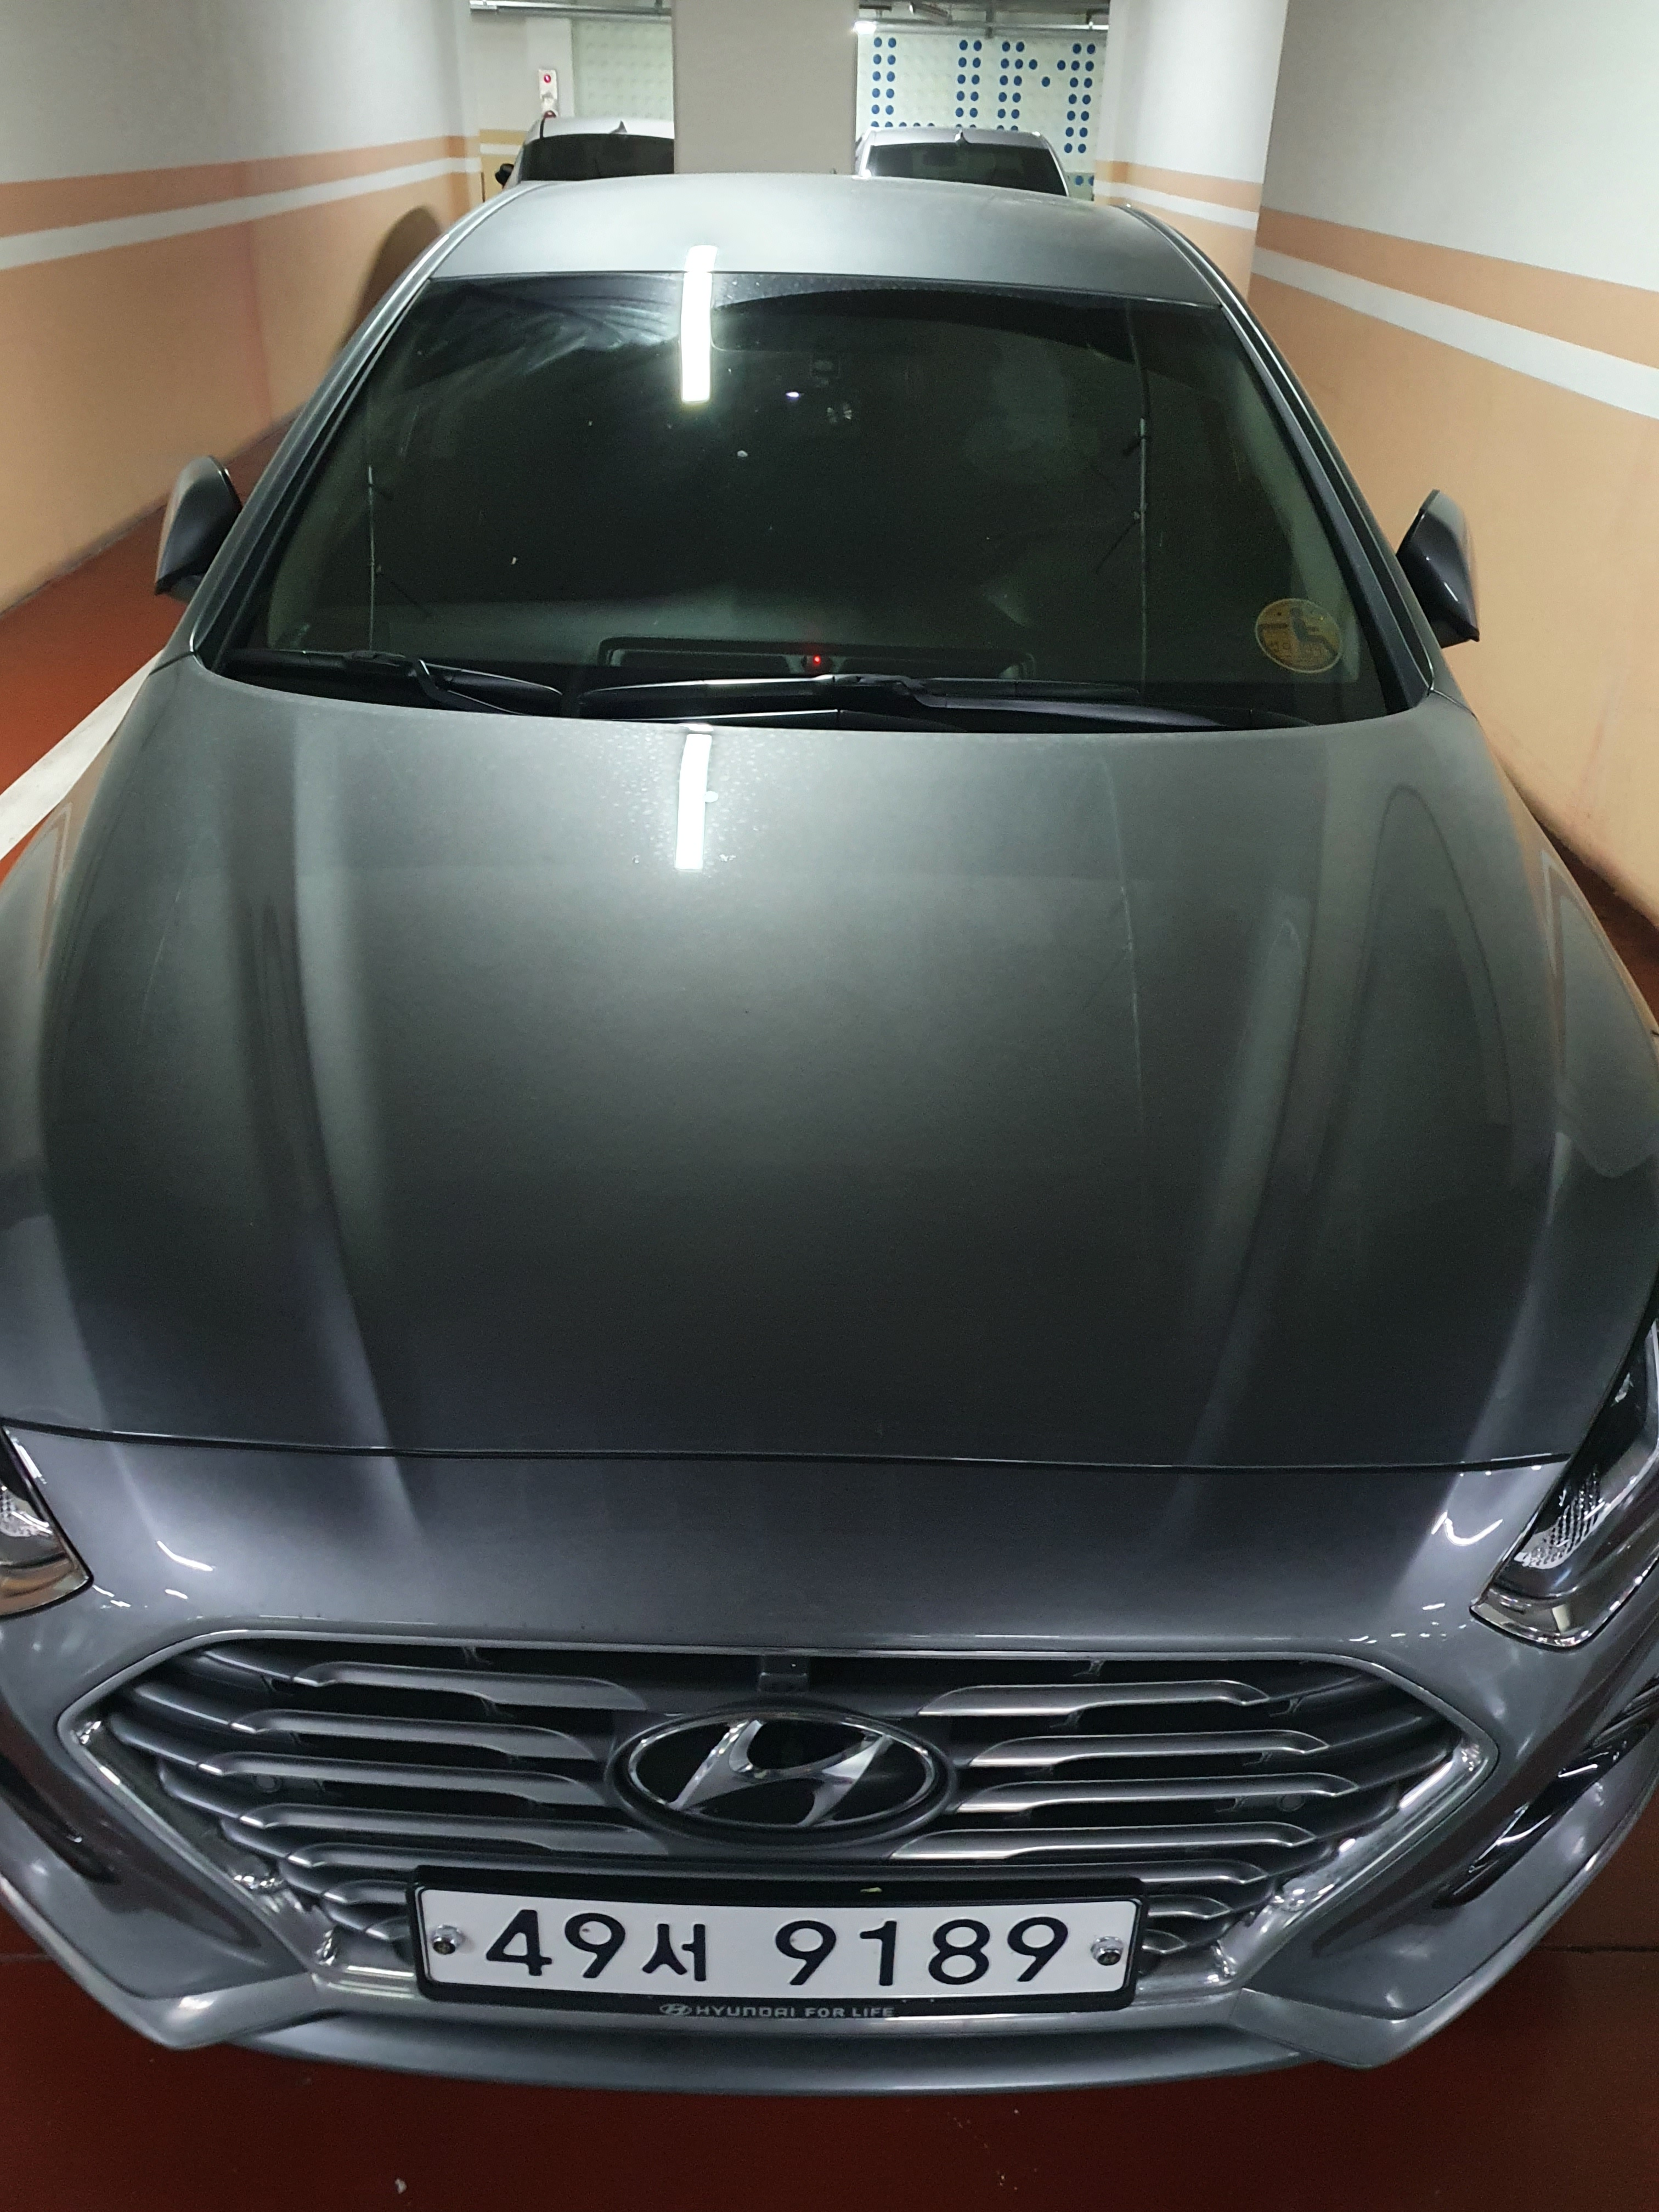disabled_parking: (1249, 592, 1354, 676)
